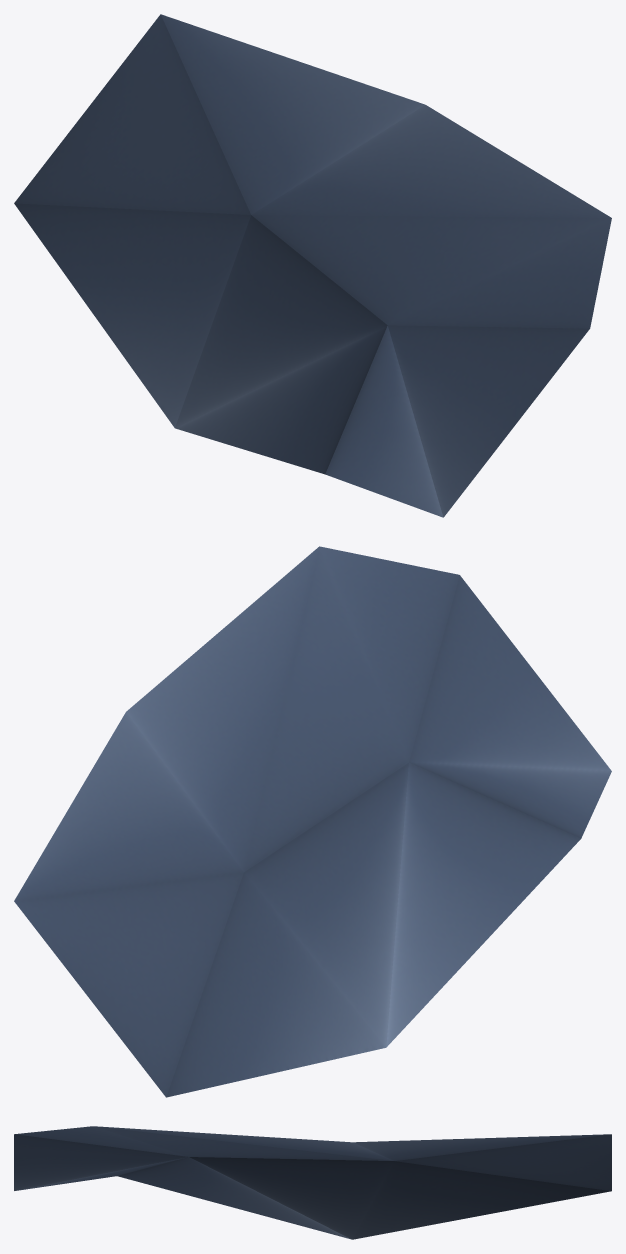
File: SM_Ceiling_Edge_B_A.fbx
3 renders of one model, top to bottom at view 1: azimuth 30°, elevation 25°; view 2: azimuth 150°, elevation 25°; view 3: azimuth 270°, elevation 25°, orthographic. The views are drawn at different scales.
Parts seen in each view (by area): view 1: pCube204; view 2: pCube204; view 3: pCube204.
Part boxes in pixels (x1=…): pCube204: x1=14, y1=14, x2=611, y2=517; pCube204: x1=14, y1=546, x2=611, y2=1097; pCube204: x1=14, y1=1126, x2=611, y2=1239.
Bounding box in the file's own units: 0.3623 × 0.3667 × 1.
